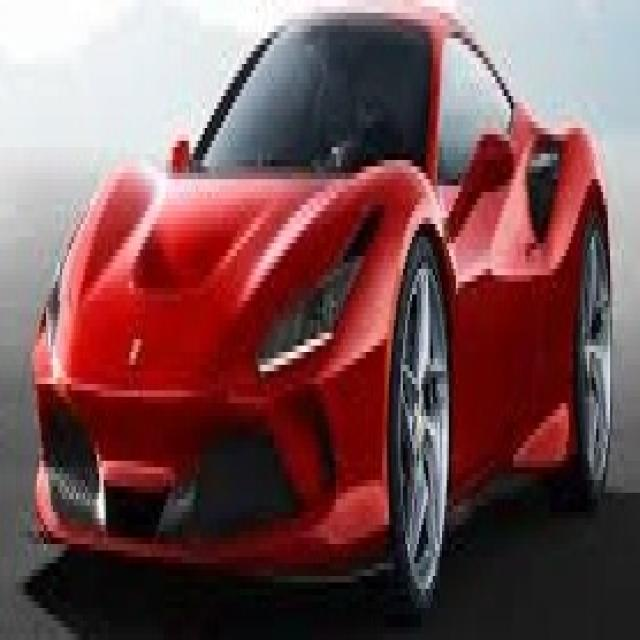red: (31, 22, 616, 640)
